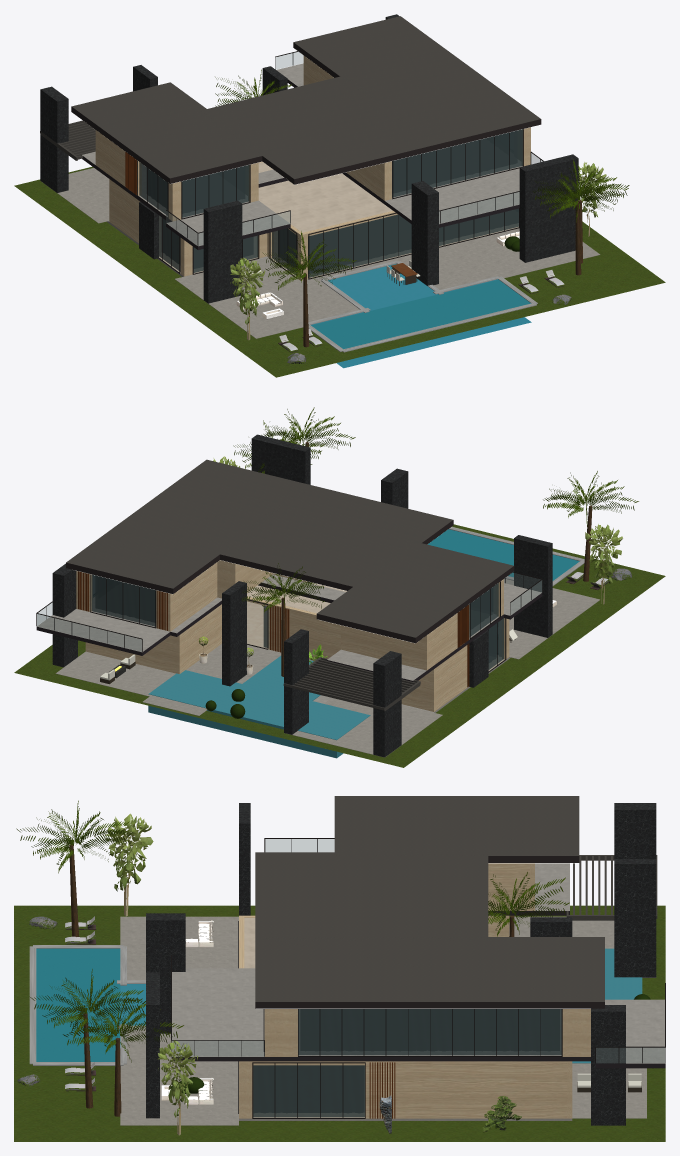
Rendered from margaux.glb.
3 renders of one model, top to bottom at view 1: azimuth 30°, elevation 25°; view 2: azimuth 150°, elevation 25°; view 3: azimuth 270°, elevation 25°, orthographic. The views are drawn at different scales.
Parts seen in each view (by area): view 1: m_Material_17, m_Material_12, m_Material_19, m_Material_8, m_Material_1, m_Material_11, m_Material_2, m_Material_14, m_Material_6, m_Material_7, m_Material_27, m_Material_9 (+8 smaller); view 2: m_Material_17, m_Material_12, m_Material_6, m_Material_19, m_Material_1, m_Material_3, m_Material_14, m_Material_27, m_Material_8, m_Material_15, m_Material_11, m_Material_16 (+8 smaller); view 3: m_Material_17, m_Material_19, m_Material_12, m_Material_6, m_Material_8, m_Material_14, m_Material_11, m_Material_1, m_Material_2, m_Material_27, m_Material_0.005, m_Material_16 (+12 smaller).
Part boxes in pixels (<box>): m_Material_17: <box>71,16,541,184</box>; m_Material_12: <box>40,14,578,303</box>; m_Material_19: <box>14,166,665,377</box>; m_Material_8: <box>139,129,522,277</box>; m_Material_1: <box>41,168,600,338</box>; m_Material_11: <box>148,131,518,272</box>; m_Material_2: <box>311,263,530,349</box>; m_Material_14: <box>81,63,522,249</box>; m_Material_6: <box>95,55,530,280</box>; m_Material_7: <box>245,130,521,232</box>; m_Material_27: <box>215,69,629,290</box>; m_Material_9: <box>137,51,543,279</box>; m_Material_17: <box>66,459,514,643</box>; m_Material_12: <box>52,434,552,757</box>; m_Material_6: <box>76,560,509,711</box>; m_Material_19: <box>14,524,665,767</box>; m_Material_1: <box>56,578,599,757</box>; m_Material_3: <box>148,656,370,758</box>; m_Material_14: <box>36,574,542,681</box>; m_Material_27: <box>233,407,638,612</box>; m_Material_8: <box>91,574,503,669</box>; m_Material_15: <box>283,657,420,711</box>; m_Material_11: <box>96,576,496,662</box>; m_Material_16: <box>37,573,541,651</box>; m_Material_17: <box>255,796,604,1008</box>; m_Material_19: <box>14,905,665,1141</box>; m_Material_12: <box>146,803,656,1125</box>; m_Material_6: <box>239,863,590,1118</box>; m_Material_8: <box>253,1009,561,1117</box>; m_Material_14: <box>171,863,665,1068</box>; m_Material_11: <box>254,1009,559,1112</box>; m_Material_1: <box>120,916,655,1125</box>; m_Material_2: <box>36,948,145,1061</box>; m_Material_27: <box>16,800,569,1062</box>; m_Material_0.005: <box>106,813,198,1135</box>; m_Material_16: <box>172,839,664,1062</box>.
Bounding box in the file's own units: 33.48 × 10.3 × 38.64.
33 materials, 33 textured.
